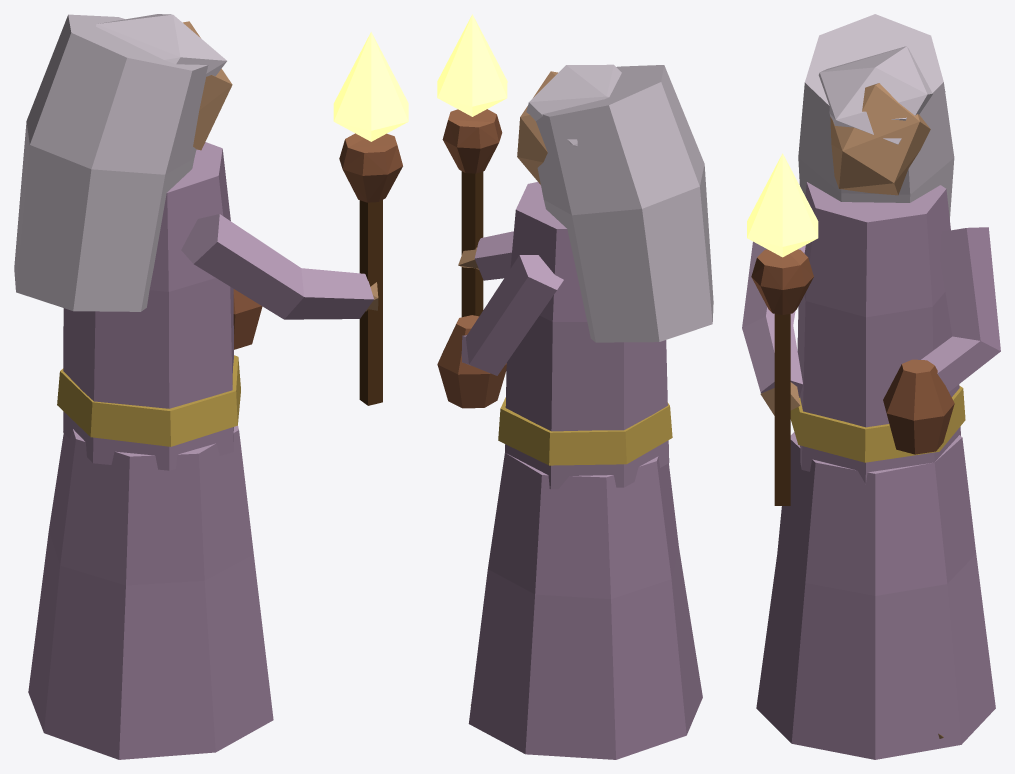
The model's file is virgin2.glb.
3 renders of one model, left to right at view 1: azimuth 30°, elevation 25°; view 2: azimuth 150°, elevation 25°; view 3: azimuth 270°, elevation 25°, orthographic. The views are drawn at different scales.
Parts seen in each view (by area): view 1: base, head_m, lamp_m; view 2: base, head_m, lamp_m; view 3: base, head_m, lamp_m.
Boxes of the visible parts, x1,y1,x2,y2 form: base: (28, 142, 273, 759); head_m: (14, 14, 232, 311); lamp_m: (181, 32, 408, 405); base: (437, 182, 702, 759); head_m: (517, 64, 713, 342); lamp_m: (437, 14, 513, 317); base: (756, 182, 1000, 759); head_m: (798, 14, 954, 219); lamp_m: (742, 153, 818, 505).
Size of the model in its own units: 0.2639 by 0.5088 by 0.1818.
